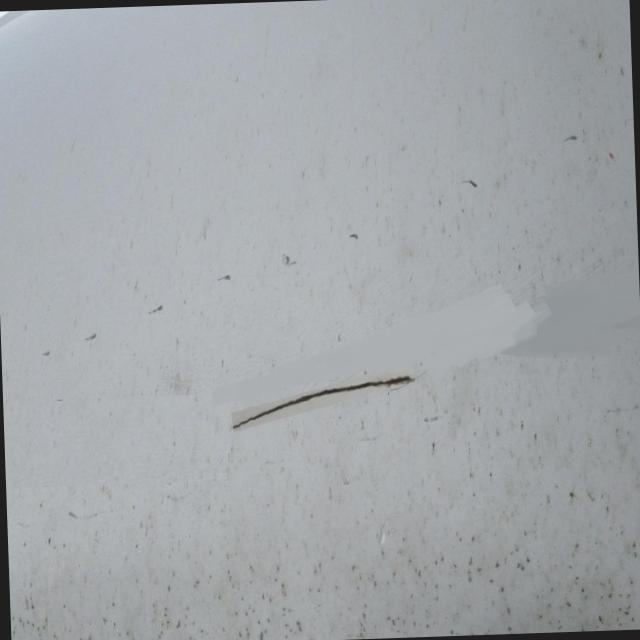crack: (224, 368, 418, 433)
